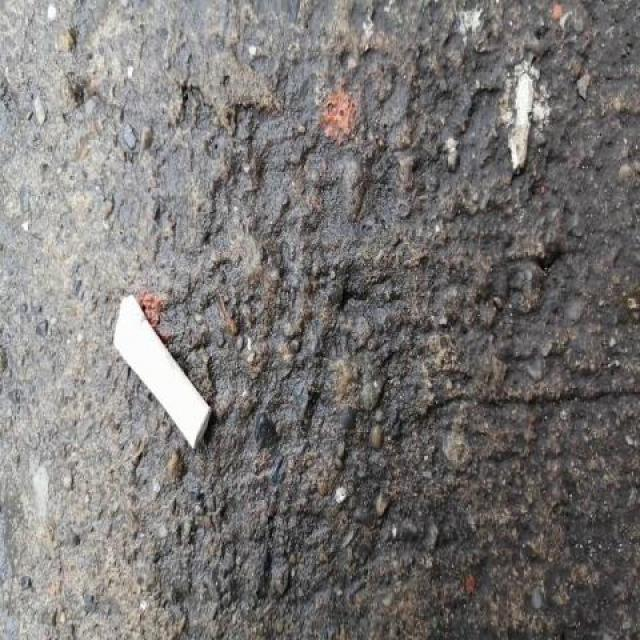non-organic waste: (110, 292, 213, 455)
